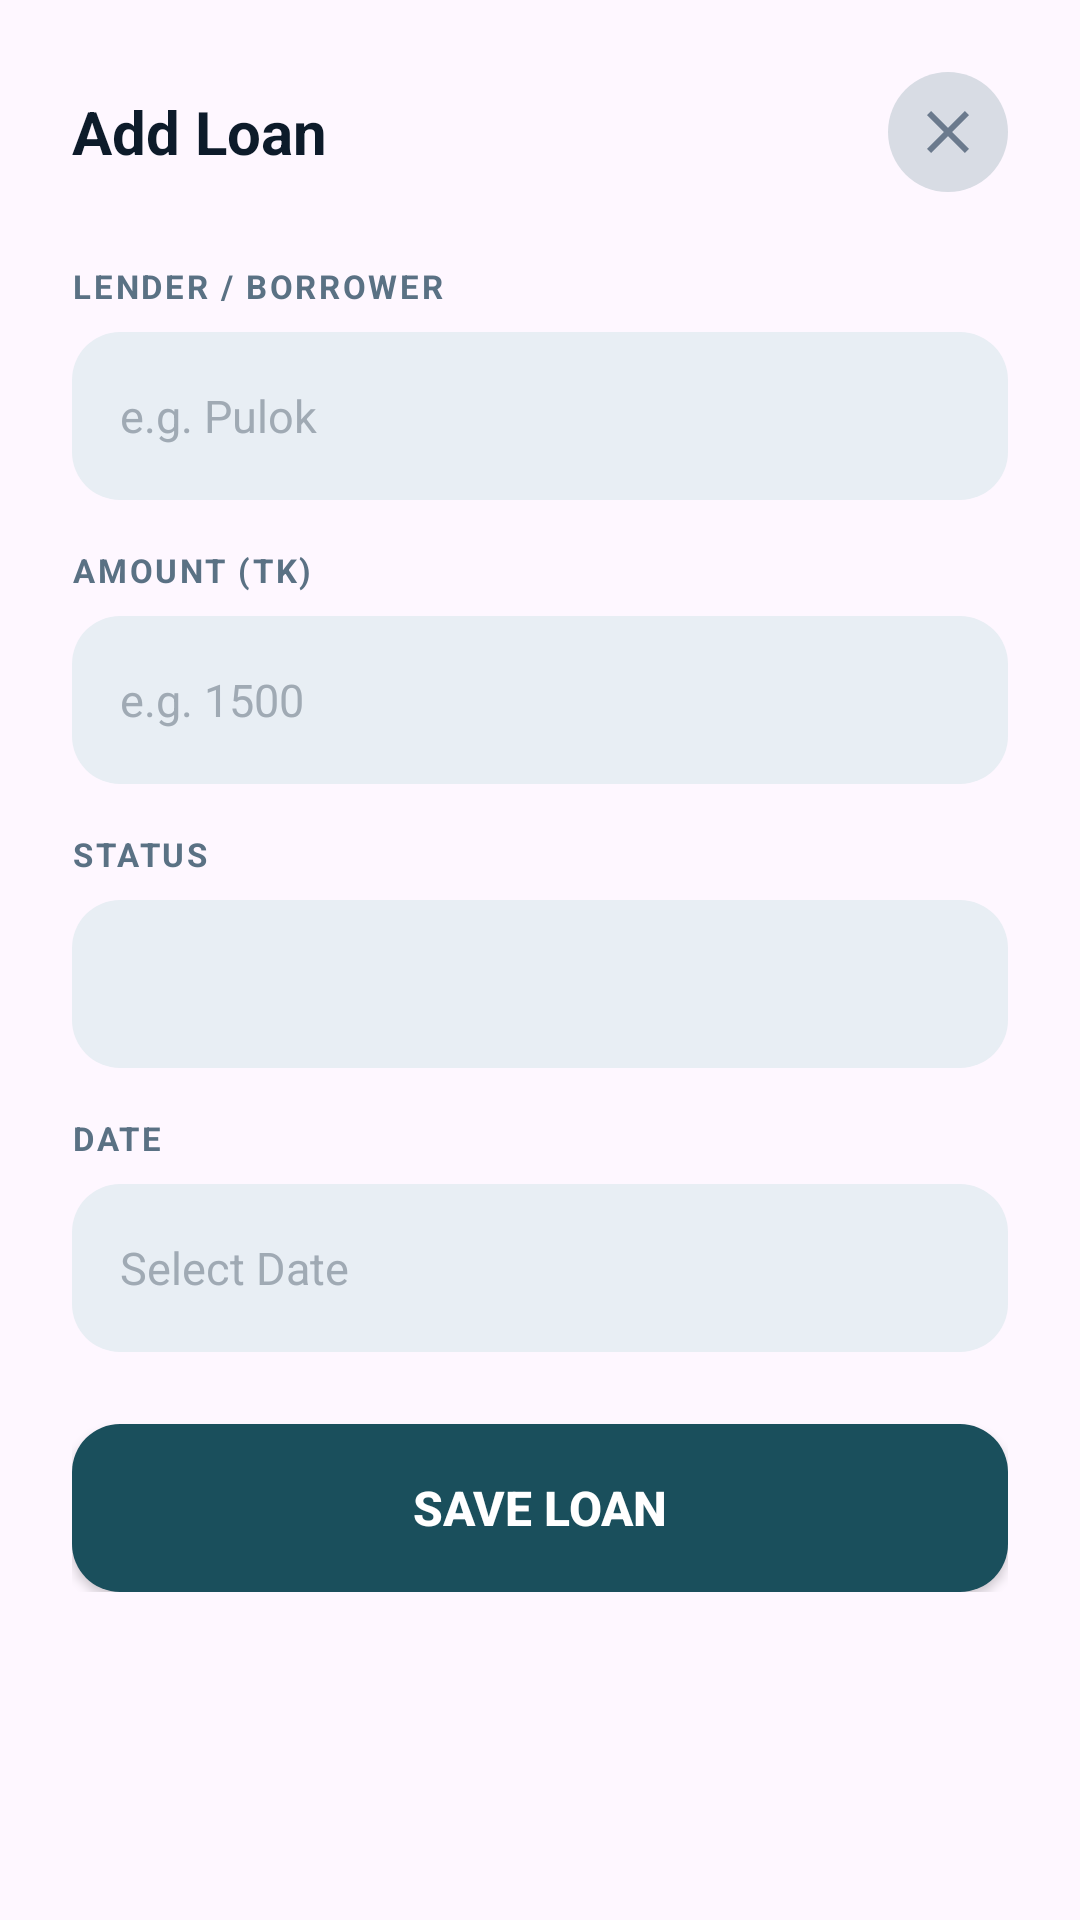

Where icons sit on this 1080w x 1920h app screen, as (x1, y1, x2, y2):
Close: (888, 72, 1008, 192)
